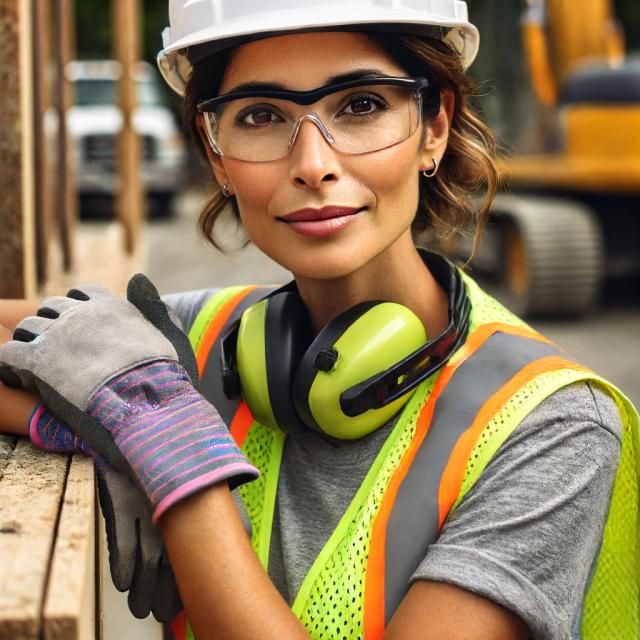Ear Muffs: (299, 294, 431, 447), (216, 284, 306, 434)
Gloves: (0, 268, 265, 512), (5, 385, 190, 620)
Hard Hat: (147, 0, 483, 107)
Reflective Vest: (178, 259, 639, 635)
Safety Glasses: (196, 76, 459, 172)
